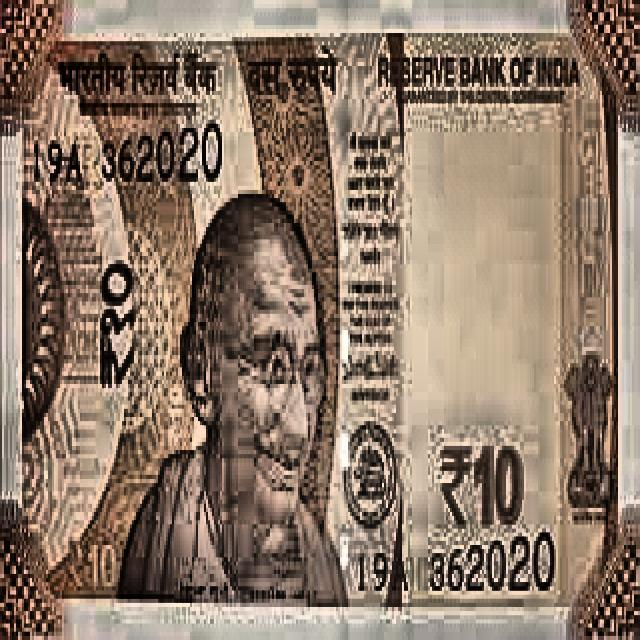-10-: (11, 24, 640, 610)
